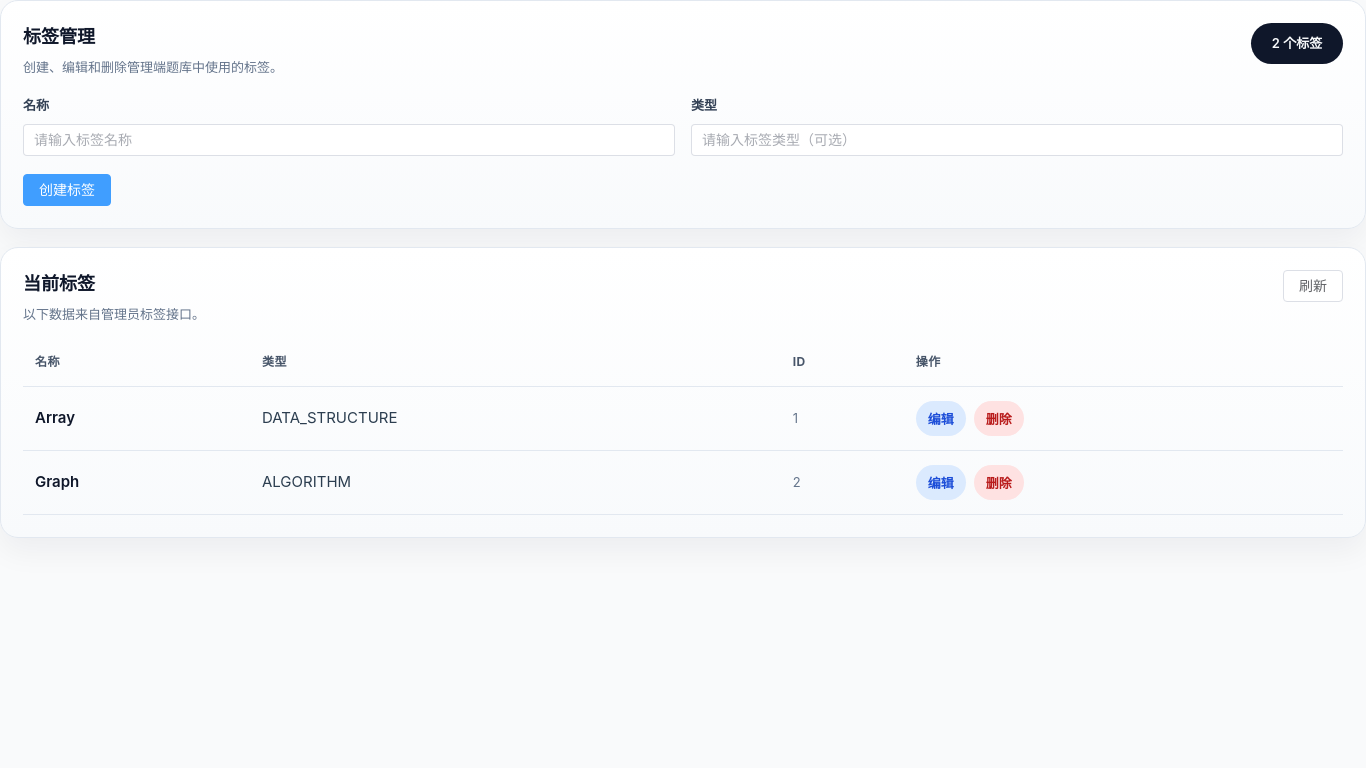
Scenario: TagManagement › edits an existing tag
Click the button with test id "edit-tag-2": (941, 482) [916,465,966,500]
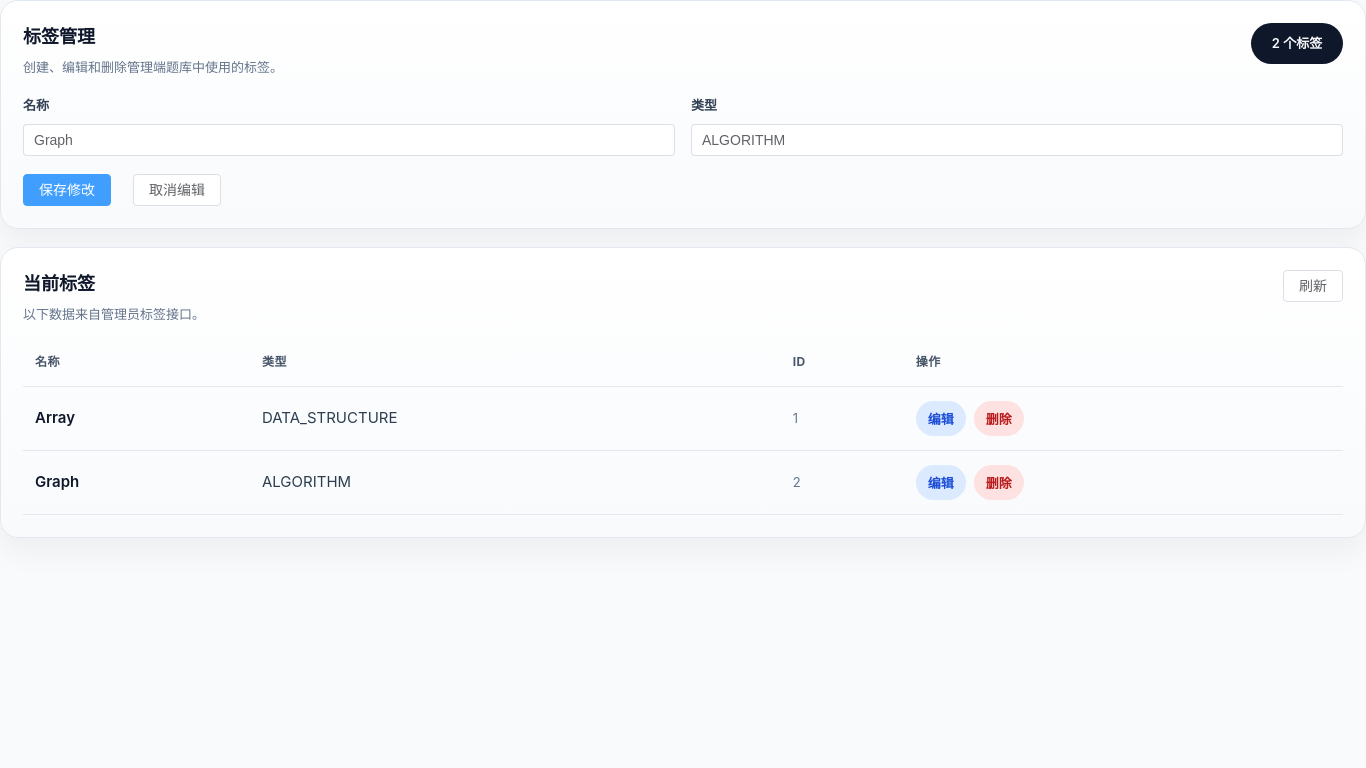
Replace the text in the field labelled "名称" with "Shortest Path": (349, 140) [34,125,664,155]
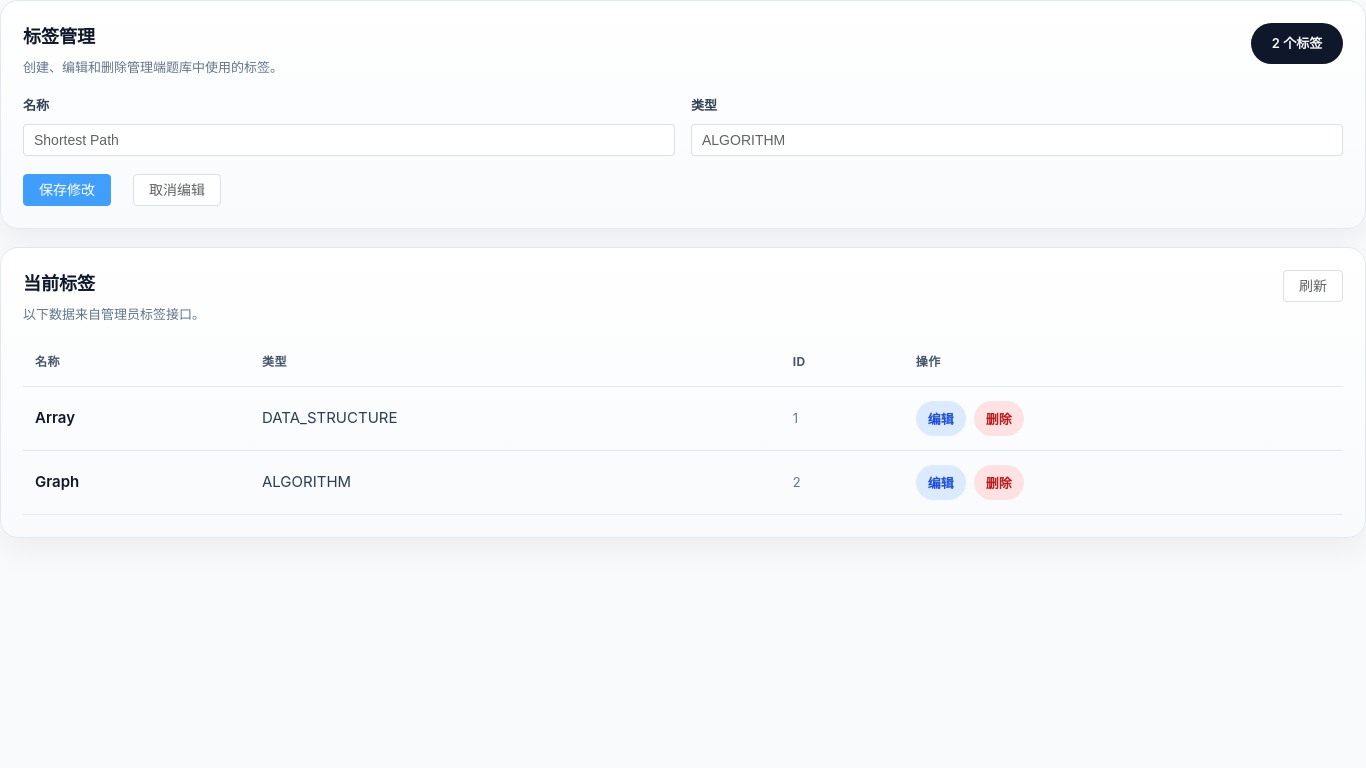
Click the button with test id "tag-submit-button": (67, 190) [23,174,111,206]
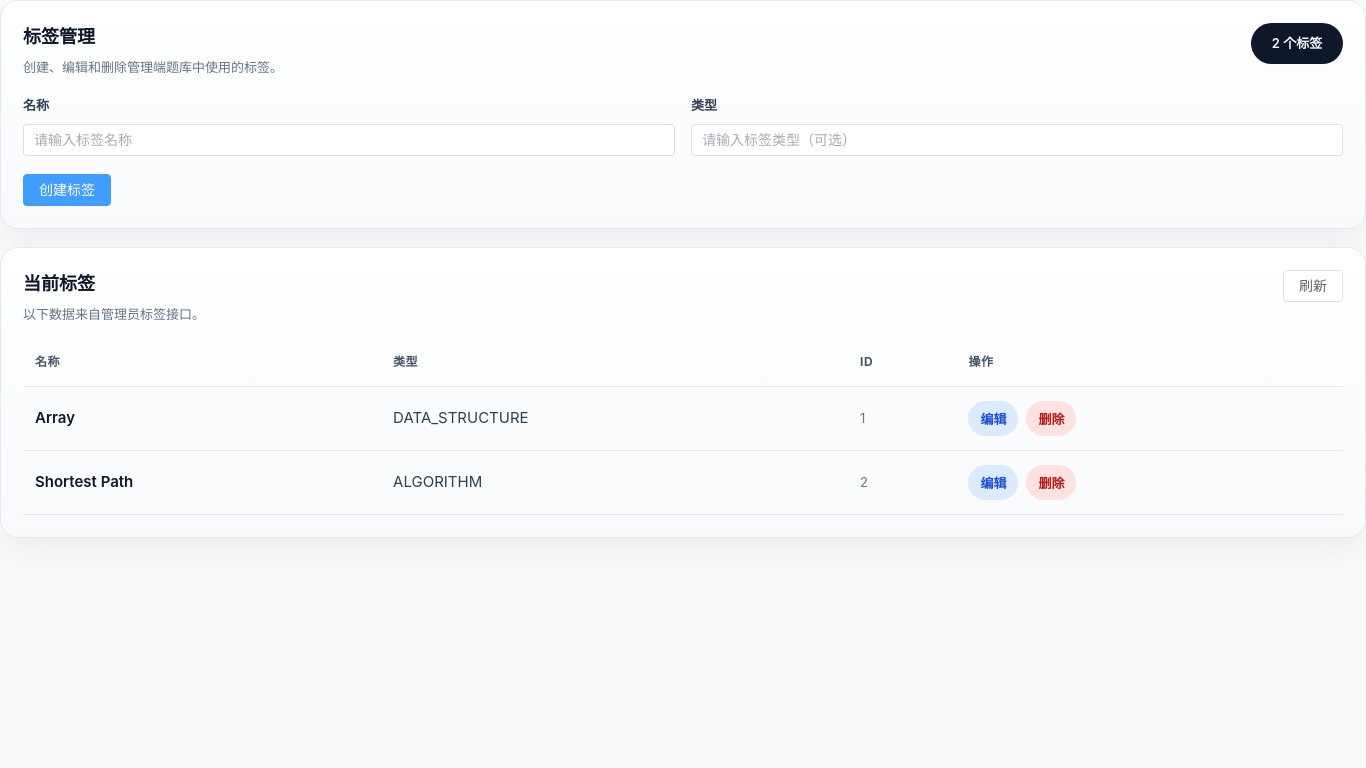
Result: the text "Shortest Path" is shown at [23,450,381,514]
